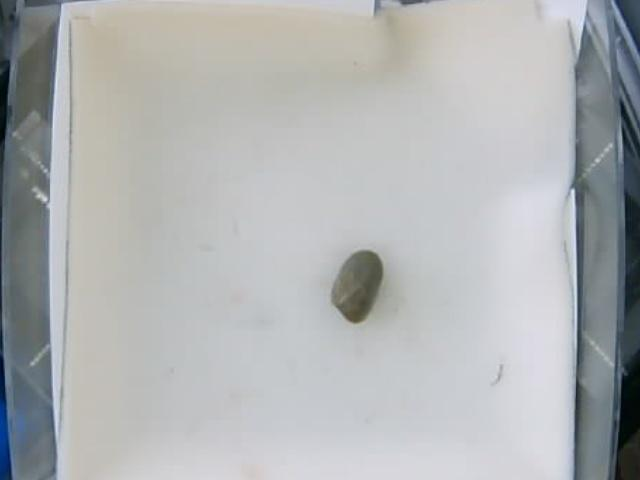Pebble: (330, 249, 384, 324)
